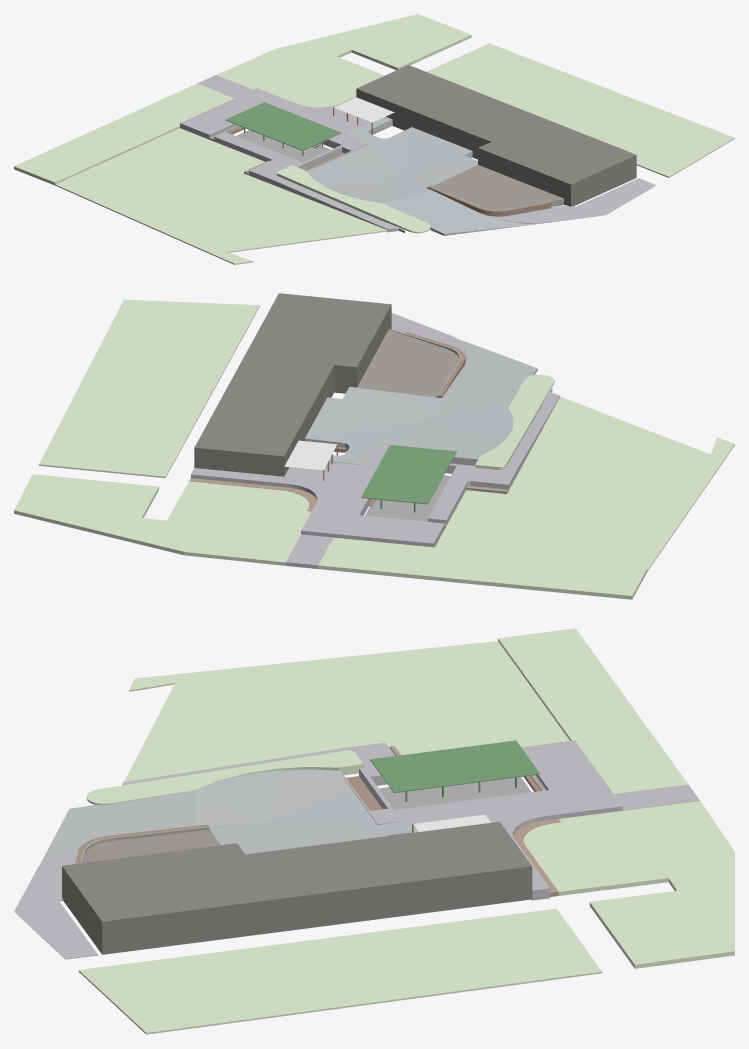
3 views of the same model, one above another, from view 1: azimuth 30°, elevation 25°; view 2: azimuth 150°, elevation 25°; view 3: azimuth 270°, elevation 25° (orthographic). The views are drawn at different scales.
Visible parts, largest first — view 1: 3d.016, 3d.022, 3d.018, 3d.028, 3d.020, 3d.040, 3d.019, 3d.017, 3d.026, 3d.027, 3d.007, 3d.025 (+4 smaller); view 2: 3d.016, 3d.018, 3d.022, 3d.040, 3d.020, 3d.028, 3d.019, 3d.017, 3d.026, 3d.007, 3d.027, 3d.041 (+4 smaller); view 3: 3d.022, 3d.016, 3d.018, 3d.020, 3d.019, 3d.028, 3d.040, 3d.017, 3d.007, 3d.027, 3d.041, 3d.025 (+4 smaller).
Part boxes in pixels (x1=…): 3d.016: x1=55, y1=128, x2=387, y2=264; 3d.022: x1=356, y1=65, x2=636, y2=206; 3d.018: x1=426, y1=43, x2=734, y2=177; 3d.028: x1=307, y1=116, x2=477, y2=205; 3d.020: x1=216, y1=14, x2=471, y2=89; 3d.040: x1=180, y1=88, x2=404, y2=232; 3d.019: x1=14, y1=83, x2=233, y2=185; 3d.017: x1=261, y1=56, x2=384, y2=107; 3d.026: x1=433, y1=165, x2=561, y2=209; 3d.027: x1=388, y1=188, x2=533, y2=235; 3d.007: x1=225, y1=102, x2=341, y2=150; 3d.025: x1=488, y1=178, x2=655, y2=224; 3d.016: x1=435, y1=396, x2=734, y2=571; 3d.018: x1=38, y1=299, x2=259, y2=478; 3d.022: x1=194, y1=293, x2=391, y2=476; 3d.040: x1=191, y1=388, x2=560, y2=547; 3d.020: x1=14, y1=474, x2=300, y2=565; 3d.028: x1=305, y1=387, x2=513, y2=464; 3d.019: x1=318, y1=537, x2=647, y2=599; 3d.017: x1=167, y1=481, x2=311, y2=534; 3d.026: x1=355, y1=330, x2=459, y2=397; 3d.007: x1=361, y1=445, x2=456, y2=504; 3d.027: x1=442, y1=338, x2=537, y2=404; 3d.041: x1=475, y1=374, x2=554, y2=469; 3d.022: x1=62, y1=821, x2=532, y2=954; 3d.016: x1=124, y1=641, x2=569, y2=781; 3d.018: x1=78, y1=908, x2=602, y2=1034; 3d.020: x1=589, y1=801, x2=734, y2=968; 3d.019: x1=498, y1=628, x2=687, y2=793; 3d.028: x1=184, y1=769, x2=426, y2=854; 3d.040: x1=122, y1=740, x2=622, y2=900; 3d.017: x1=523, y1=811, x2=669, y2=895; 3d.007: x1=370, y1=740, x2=539, y2=793; 3d.027: x1=39, y1=792, x2=205, y2=865; 3d.041: x1=86, y1=750, x2=363, y2=805; 3d.025: x1=14, y1=849, x2=97, y2=959.
Size of the model in its own units: 1042 by 46.82 by 790.
